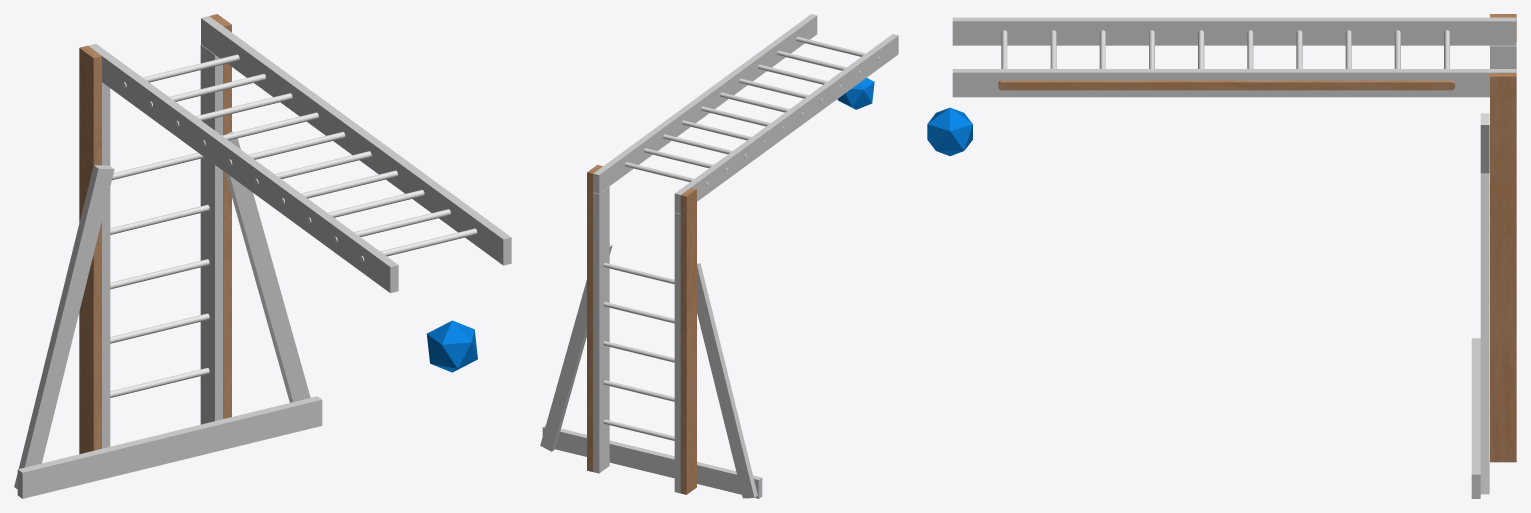
The model's file is Monkey bar attachment.glb.
3 renders of one model, left to right at view 1: azimuth 30°, elevation 25°; view 2: azimuth 150°, elevation 25°; view 3: azimuth 270°, elevation 25°, orthographic. The views are drawn at different scales.
Visible parts, largest first — view 1: Cylinder.004, Joint.003; view 2: Cylinder.004, Joint.003; view 3: Cylinder.004, Joint.003.
Boxes of the visible parts, <box> form: Cylinder.004: <box>14,14,511,498</box>; Joint.003: <box>426,320,477,372</box>; Cylinder.004: <box>540,14,898,498</box>; Joint.003: <box>837,78,874,109</box>; Cylinder.004: <box>952,14,1516,498</box>; Joint.003: <box>927,107,972,155</box>.
Size of the model in its own units: 1.83 by 2.41 by 3.34.
4 materials, 1 textured.
